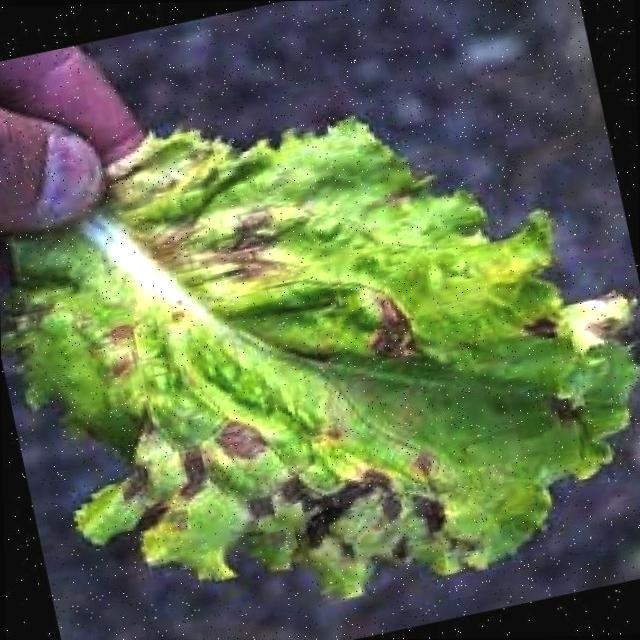Septoria_Blight: (102, 149, 458, 564)
